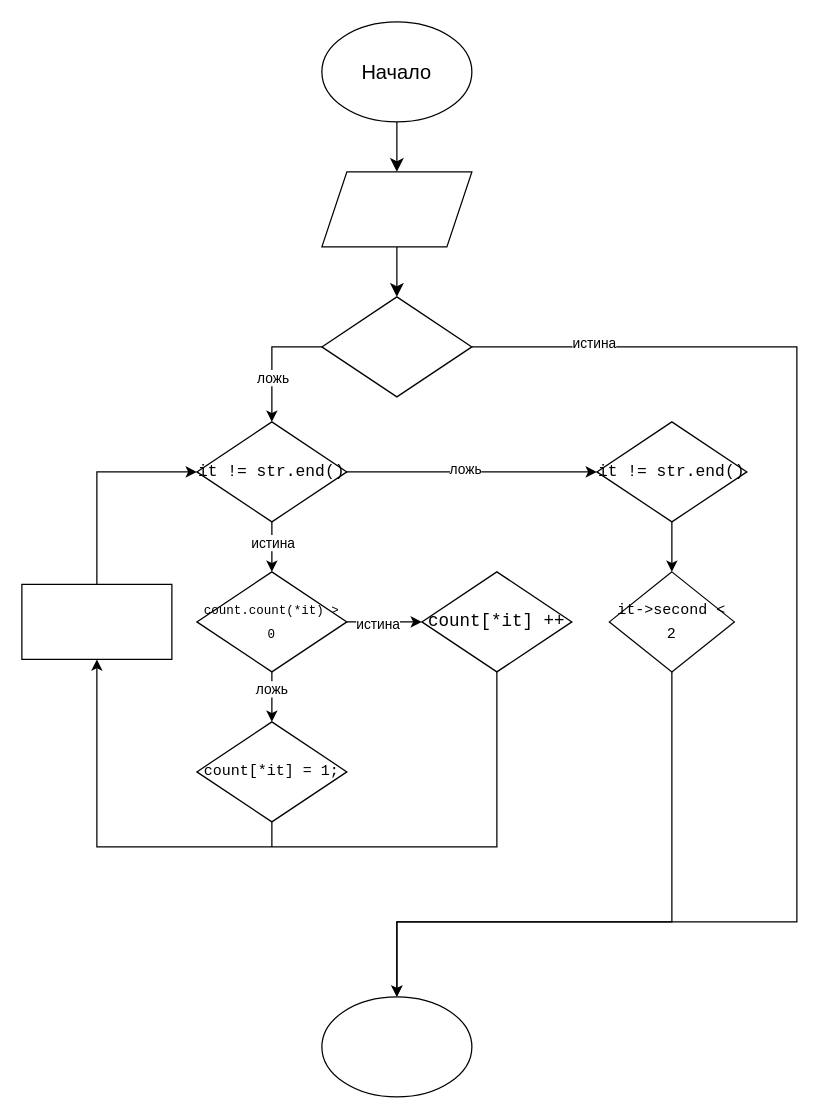
The diagram is 829 pixels wide and 1119 high, and some of its shapes have lost their labels. Here are the shapes that lost their labels. From the top down, the box of each, then its label:
(321, 171, 472, 247): str
(321, 296, 472, 397): str.length() == 0
(21, 583, 172, 659): it++
(321, 996, 472, 1097): Конец
